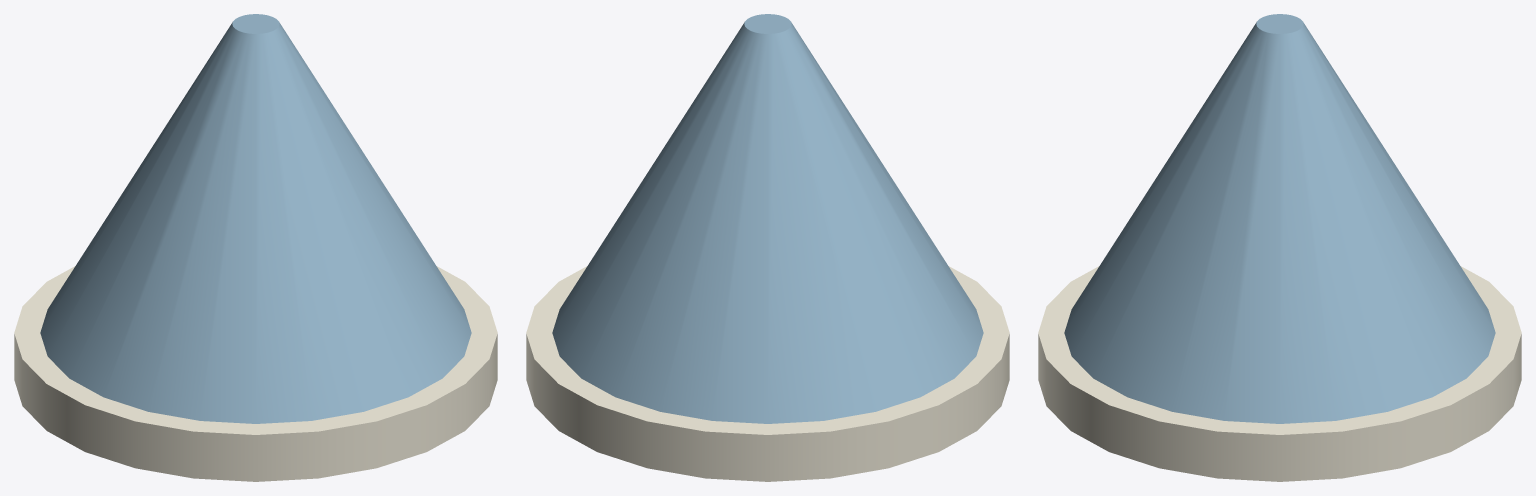
File: towerTopRoof.glb
The picture shows the model from 3 angles, left to right: view 1: azimuth 30°, elevation 25°; view 2: azimuth 150°, elevation 25°; view 3: azimuth 270°, elevation 25°; orthographic projection.
Visible parts, largest first — view 1: towerTopRoof; view 2: towerTopRoof; view 3: towerTopRoof.
Boxes of the visible parts, x1,y1,x2,y2 form: towerTopRoof: (14, 14, 497, 481); towerTopRoof: (526, 14, 1009, 481); towerTopRoof: (1038, 14, 1521, 481).
Size of the model in its own units: 11.21 by 9.1 by 11.21.
